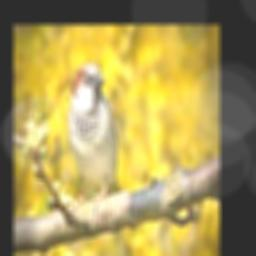Sparrow: (68, 62, 122, 204)
